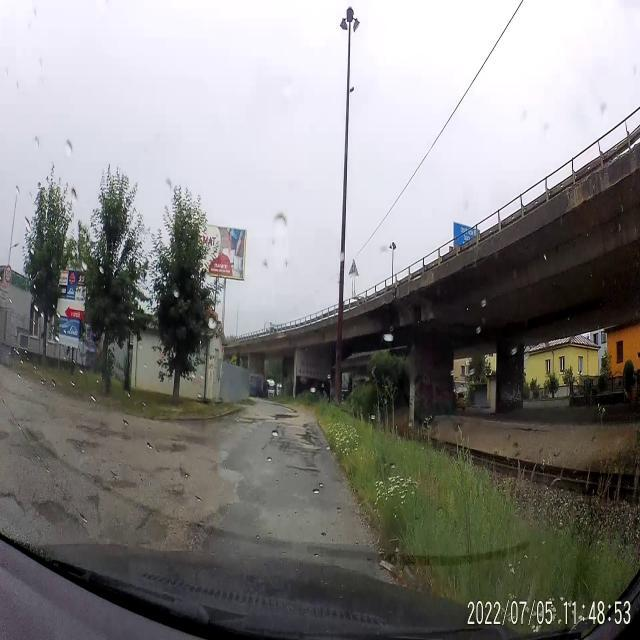Pothole: (32, 483, 76, 532), (136, 508, 172, 546), (1, 488, 24, 534), (286, 460, 322, 479)
